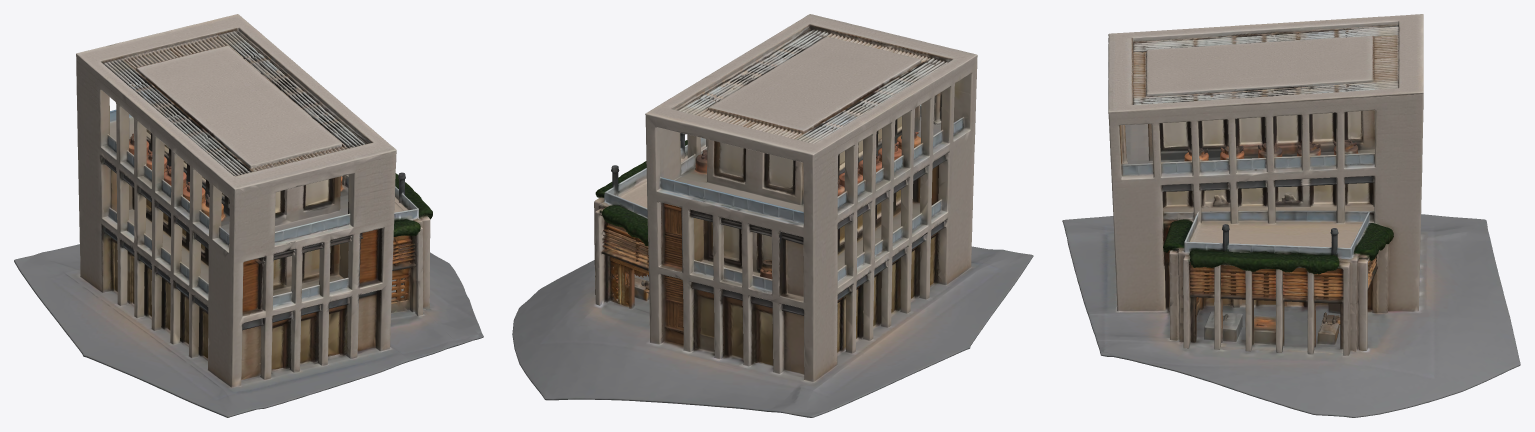
File: shopblk3.glb
3 views of the same model, side by side, from view 1: azimuth 30°, elevation 25°; view 2: azimuth 150°, elevation 25°; view 3: azimuth 270°, elevation 25° (orthographic). The views are drawn at different scales.
Parts seen in each view (by area): view 1: tripo_node_a7c42c4e-fc94-45e2-8fab-97f05bae58b5; view 2: tripo_node_a7c42c4e-fc94-45e2-8fab-97f05bae58b5; view 3: tripo_node_a7c42c4e-fc94-45e2-8fab-97f05bae58b5.
Boxes of the visible parts, left/top/right/bottom form: tripo_node_a7c42c4e-fc94-45e2-8fab-97f05bae58b5: left=14, top=14, right=483, bottom=417; tripo_node_a7c42c4e-fc94-45e2-8fab-97f05bae58b5: left=512, top=14, right=1033, bottom=417; tripo_node_a7c42c4e-fc94-45e2-8fab-97f05bae58b5: left=1062, top=14, right=1520, bottom=417.
Size of the model in its own units: 19.41 by 12 by 19.88.
Materials: 1 (1 with a texture image).
